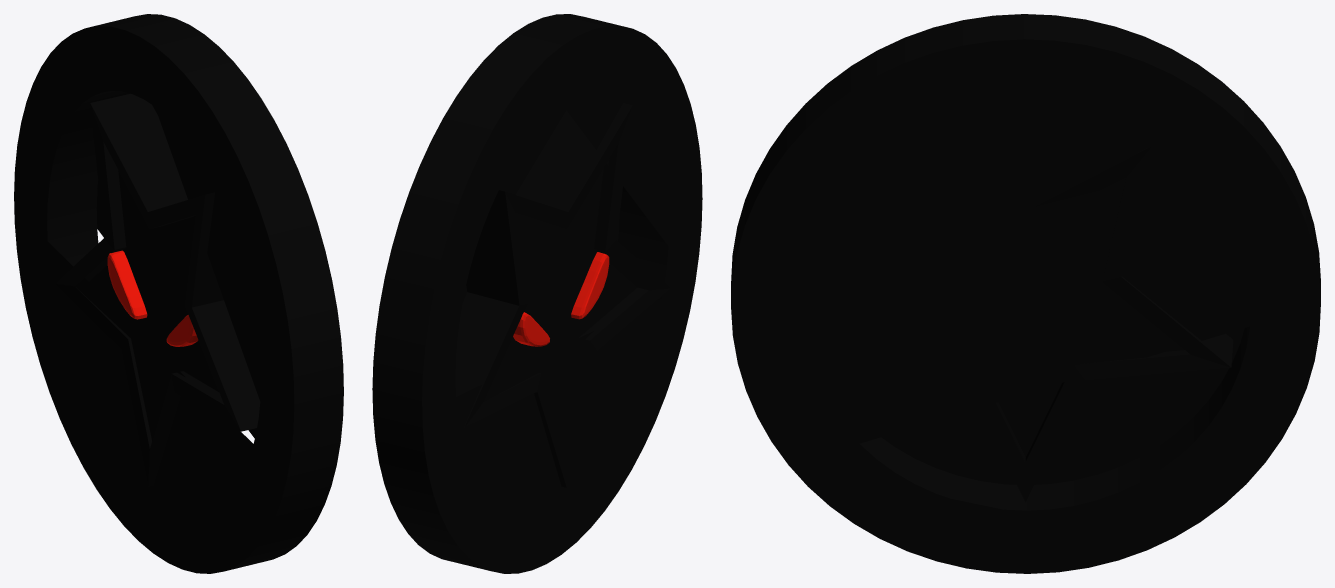
File: moneda_de_negra.fbx
3 renders of one model, left to right at view 1: azimuth 30°, elevation 25°; view 2: azimuth 150°, elevation 25°; view 3: azimuth 270°, elevation 25°, orthographic. The views are drawn at different scales.
Visible parts, largest first — view 1: Cylinder.002; view 2: Cylinder.002; view 3: Cylinder.002.
Part boxes in pixels (bbox=[...]): Cylinder.002: bbox=[14, 14, 343, 573]; Cylinder.002: bbox=[372, 14, 702, 573]; Cylinder.002: bbox=[731, 14, 1320, 573].
Bounding box in the file's own units: 27.68 × 204 × 204.
